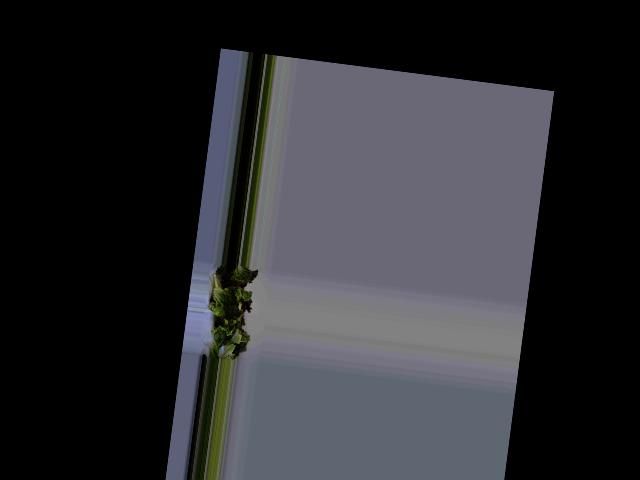lettuce: (208, 266, 254, 356)
